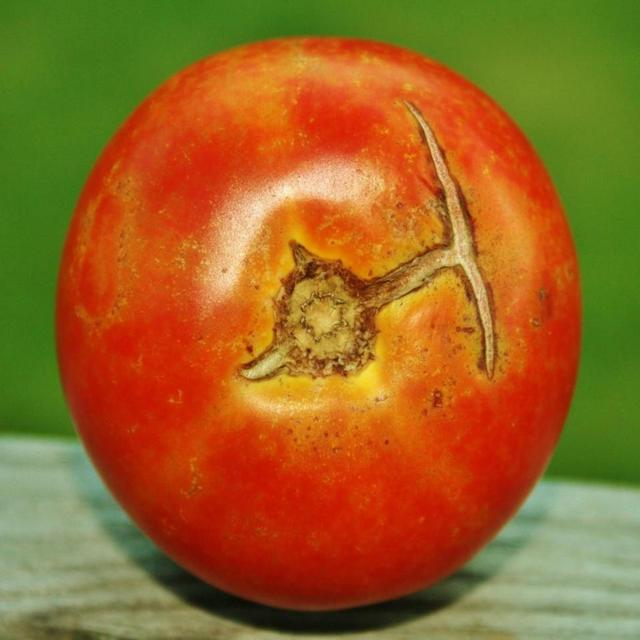Cracking Fruit: (261, 61, 346, 266)
